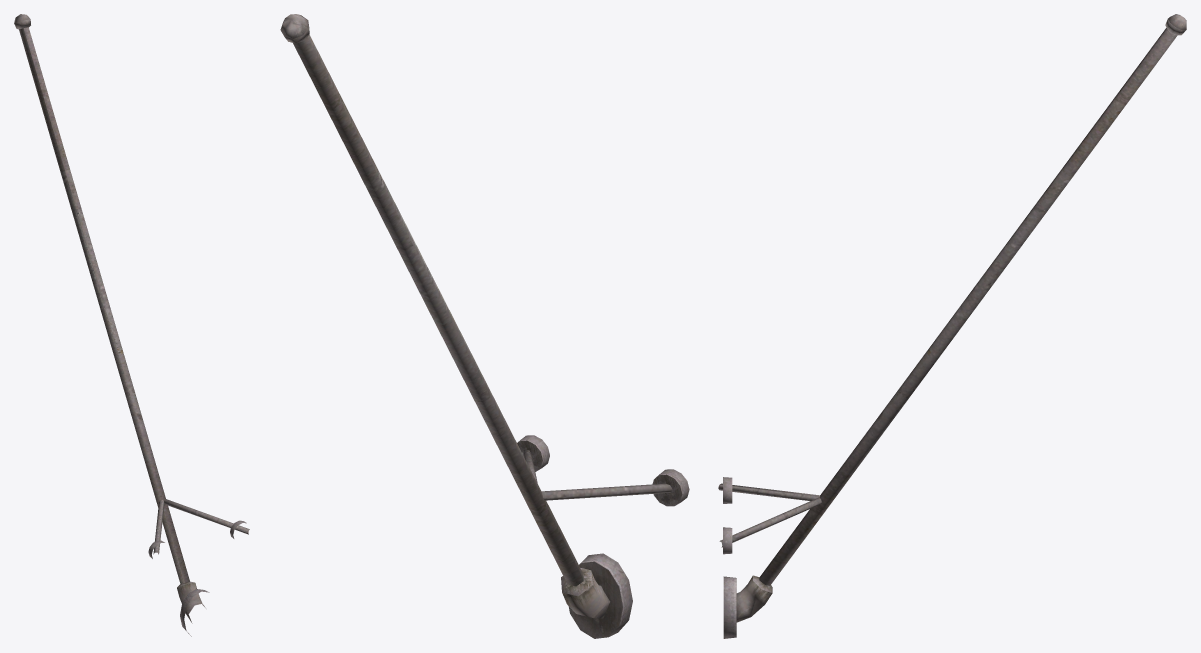
Rendered from Prop_Jjqg01.glb.
3 views of the same model, side by side, from view 1: azimuth 30°, elevation 25°; view 2: azimuth 150°, elevation 25°; view 3: azimuth 270°, elevation 25° (orthographic). The views are drawn at different scales.
Parts seen in each view (by area): view 1: xiutz_jjqg_01; view 2: xiutz_jjqg_01; view 3: xiutz_jjqg_01.
Part boxes in pixels (x1=…): xiutz_jjqg_01: x1=14, y1=14, x2=249, y2=636; xiutz_jjqg_01: x1=280, y1=14, x2=689, y2=638; xiutz_jjqg_01: x1=718, y1=14, x2=1186, y2=638.
Size of the model in its own units: 1.19 by 5.6 by 3.82.
Materials: 1 (1 with a texture image).
